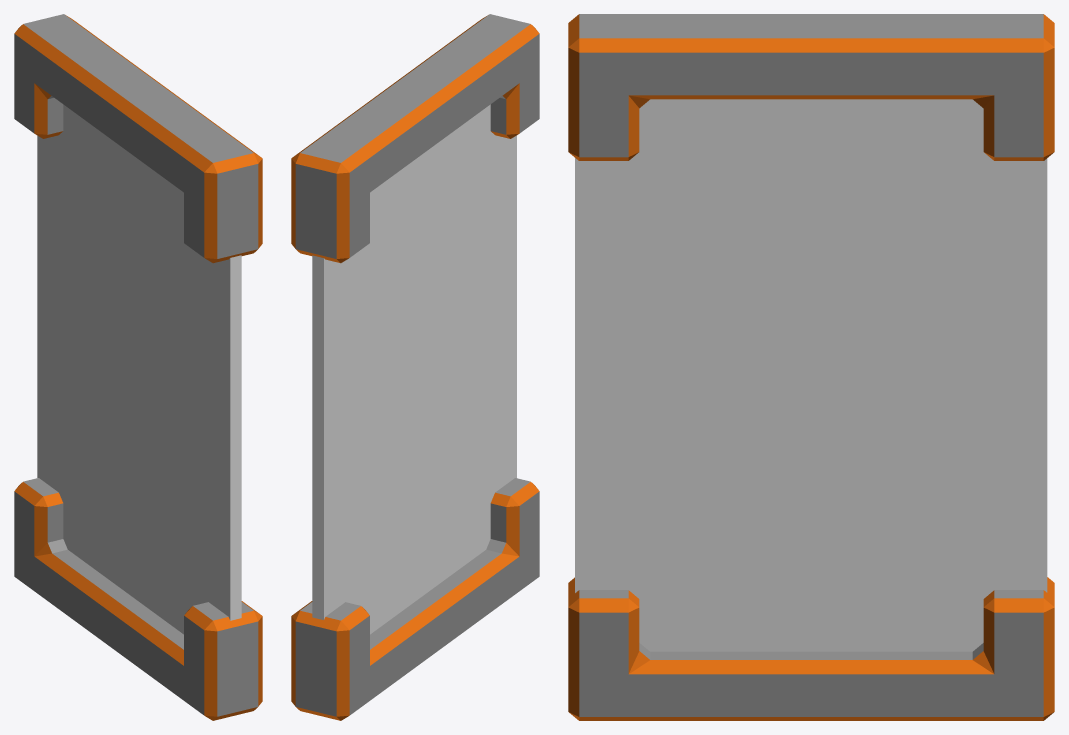
File: Wall.fbx
The picture shows the model from 3 angles, left to right: view 1: azimuth 30°, elevation 25°; view 2: azimuth 150°, elevation 25°; view 3: azimuth 270°, elevation 25°; orthographic projection. The views are drawn at different scales.
Parts seen in each view (by area): view 1: Cube.029; view 2: Cube.029; view 3: Cube.029.
Boxes of the visible parts, box(x1,y1,x2,y2) form: Cube.029: box(14, 14, 262, 720); Cube.029: box(291, 14, 539, 720); Cube.029: box(568, 14, 1054, 720).
Bounding box in the file's own units: 101 × 919 × 594.
